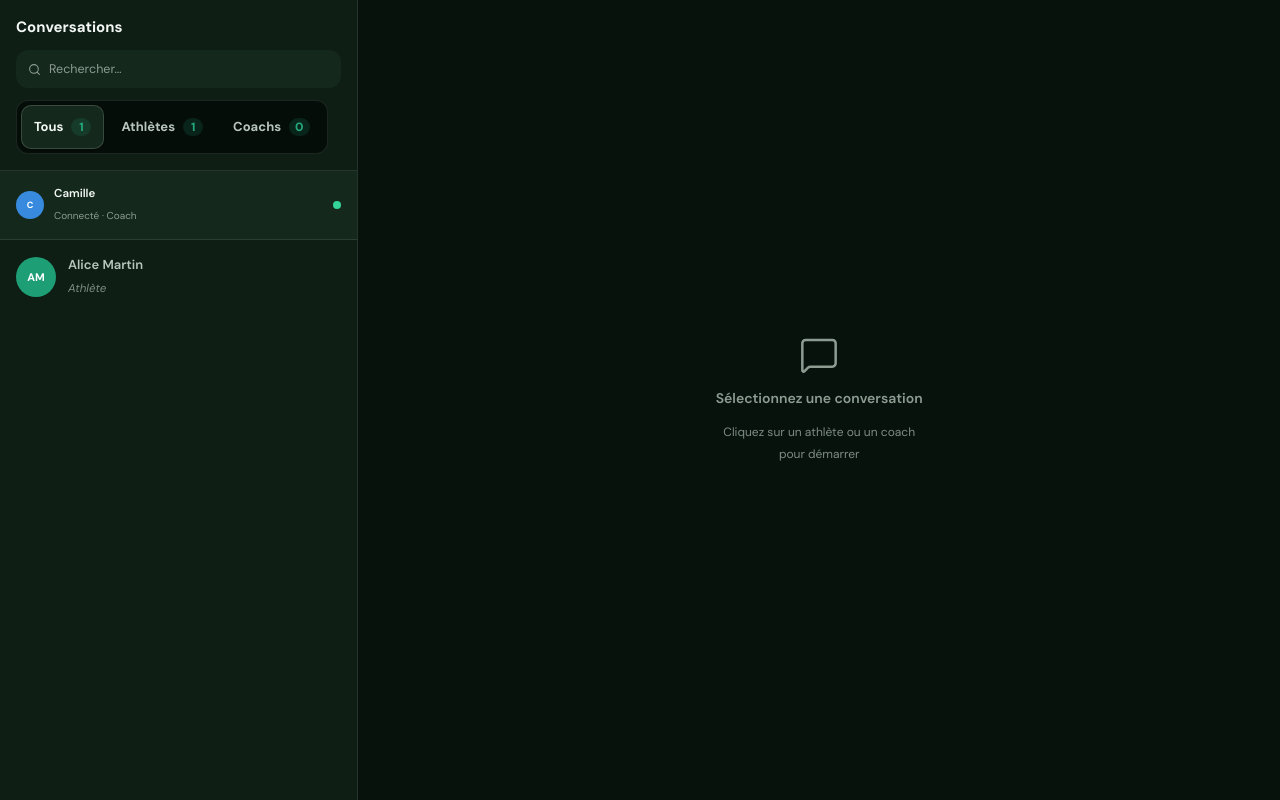
Test case: conversation coach ouverte › signale un échec de lecture sans masquer la conversation
Click the button "AM Alice Martin Athlète" at (36, 277), box [0,240,357,314]
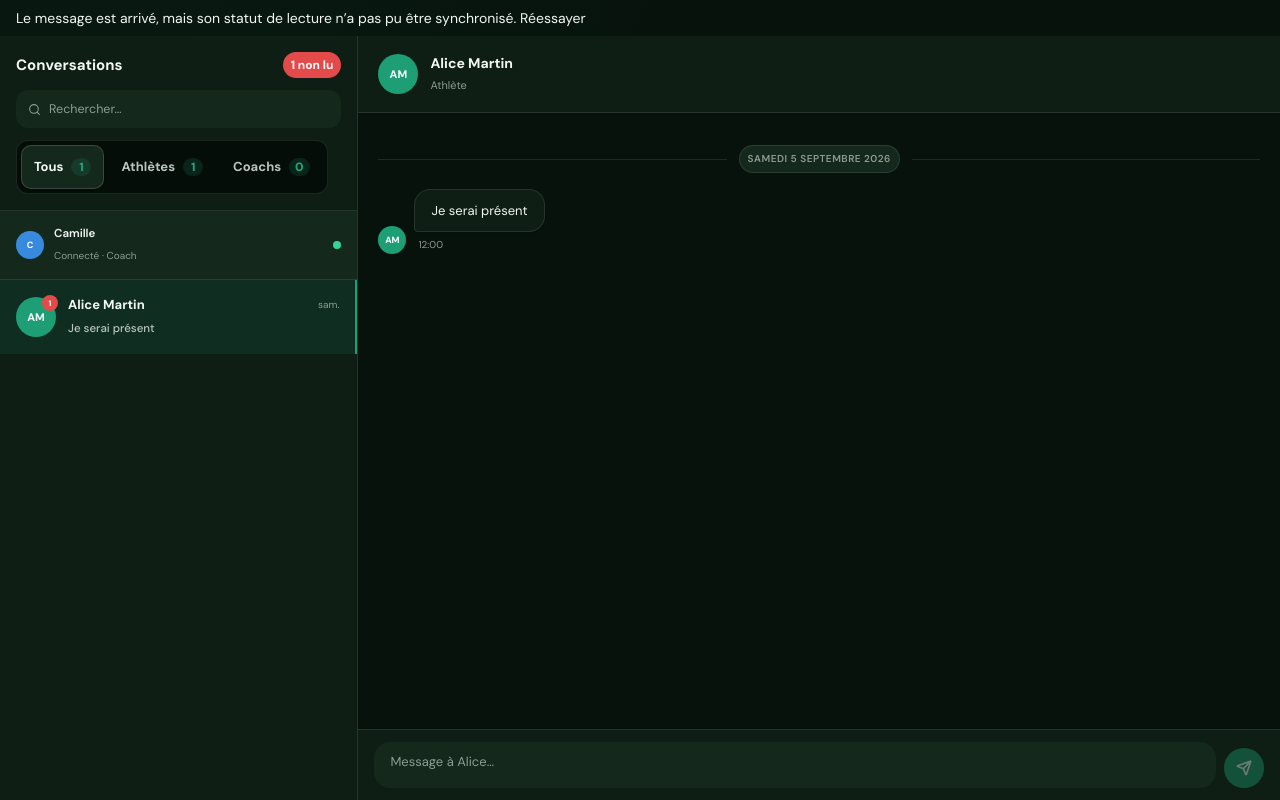
Expected: the message shows "statut de lecture", [16,9,516,27]
Expected: the element named "Conversation Alice Martin" shows "Je serai présent", [431,202,528,219]
